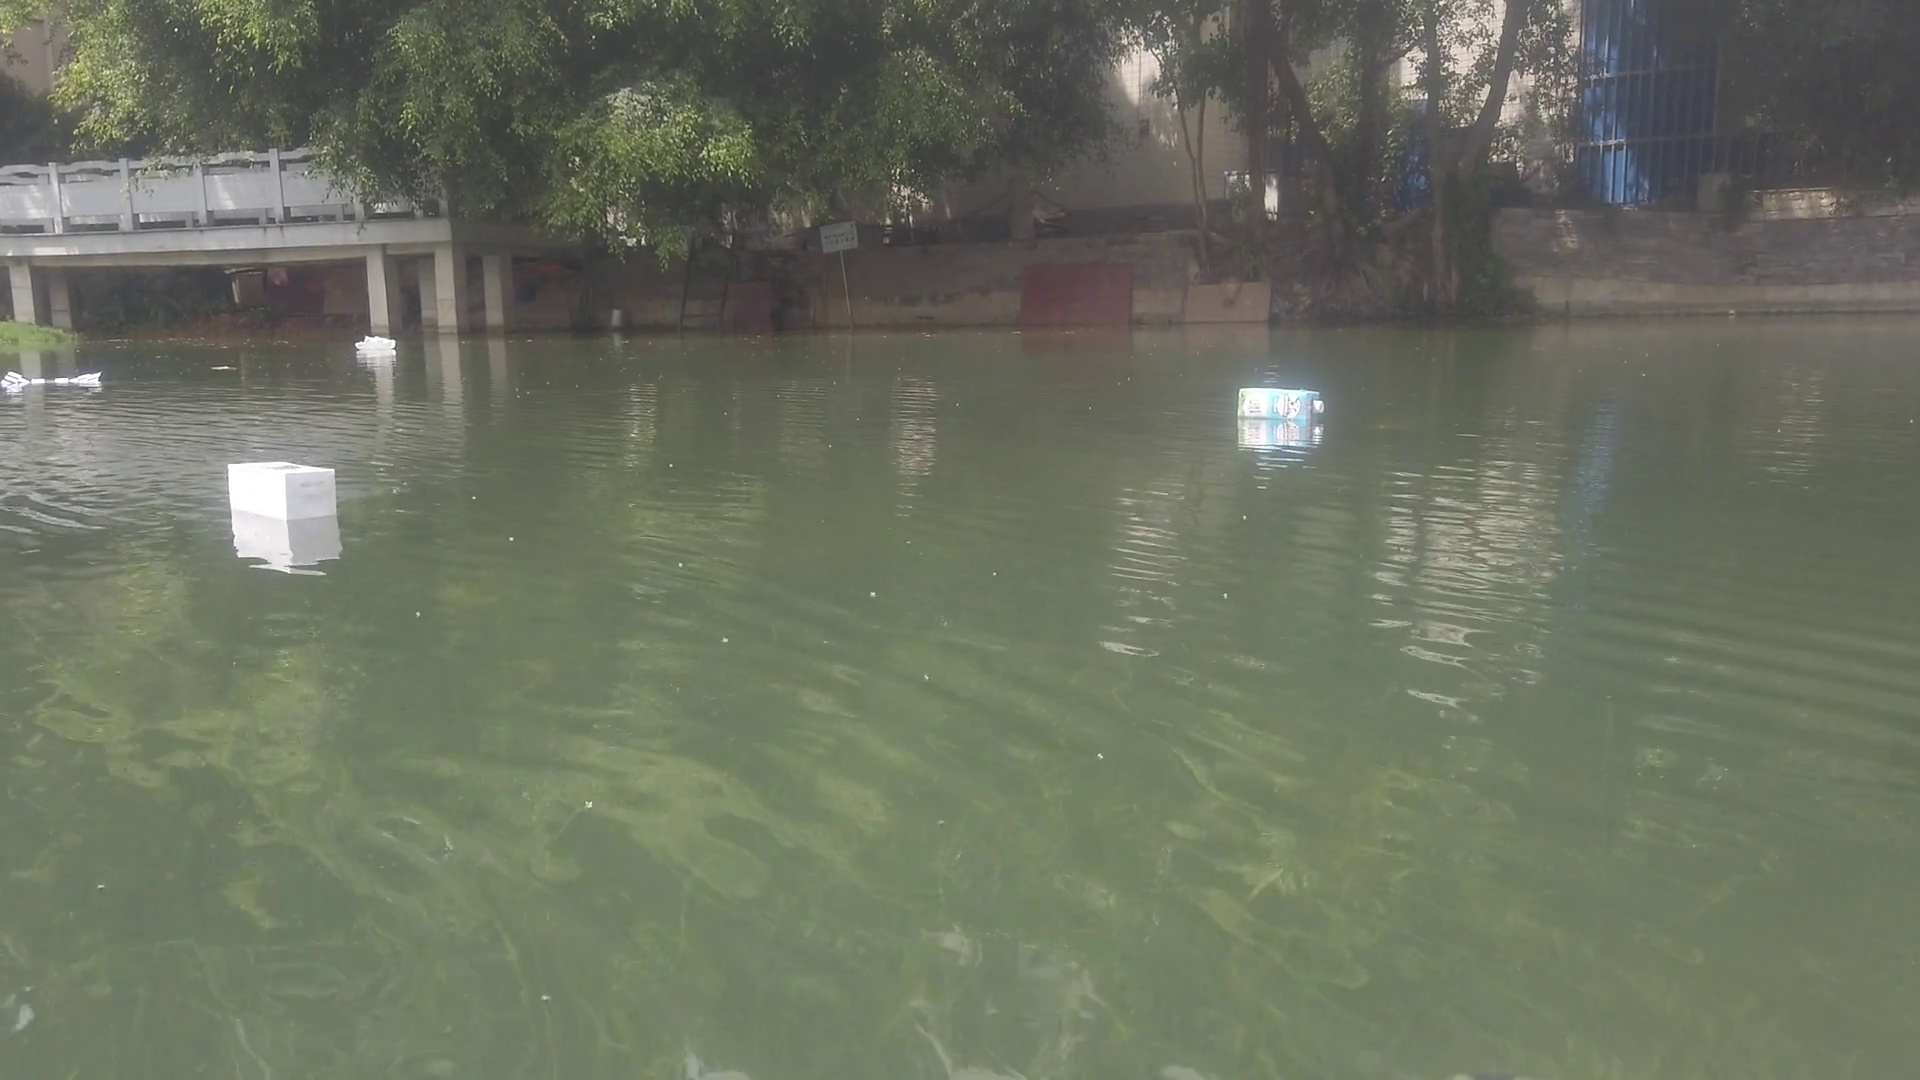carton: (224, 460, 338, 521), (1236, 386, 1323, 423)
paper: (1, 365, 102, 392), (208, 363, 235, 373)
plastic: (353, 334, 400, 355)
